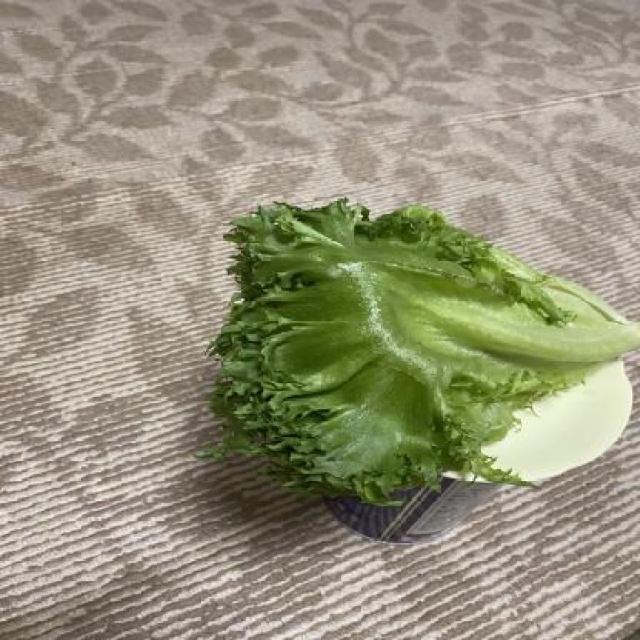plant: (205, 183, 630, 502)
